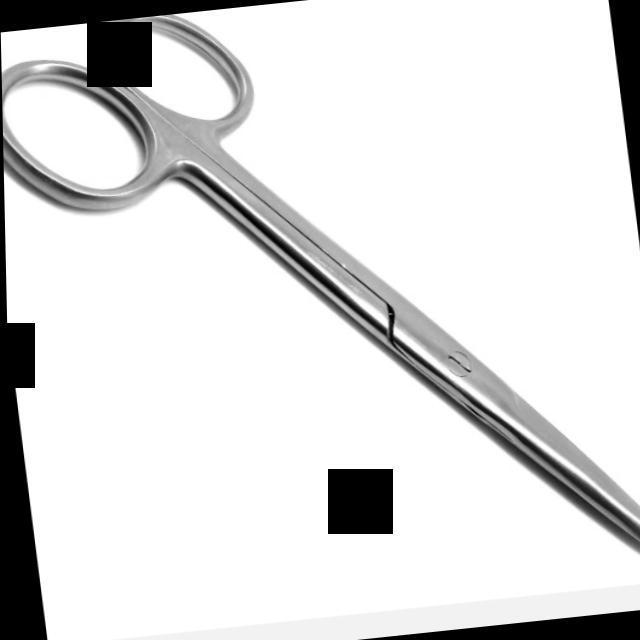Straight Mayo: (0, 0, 640, 639)
